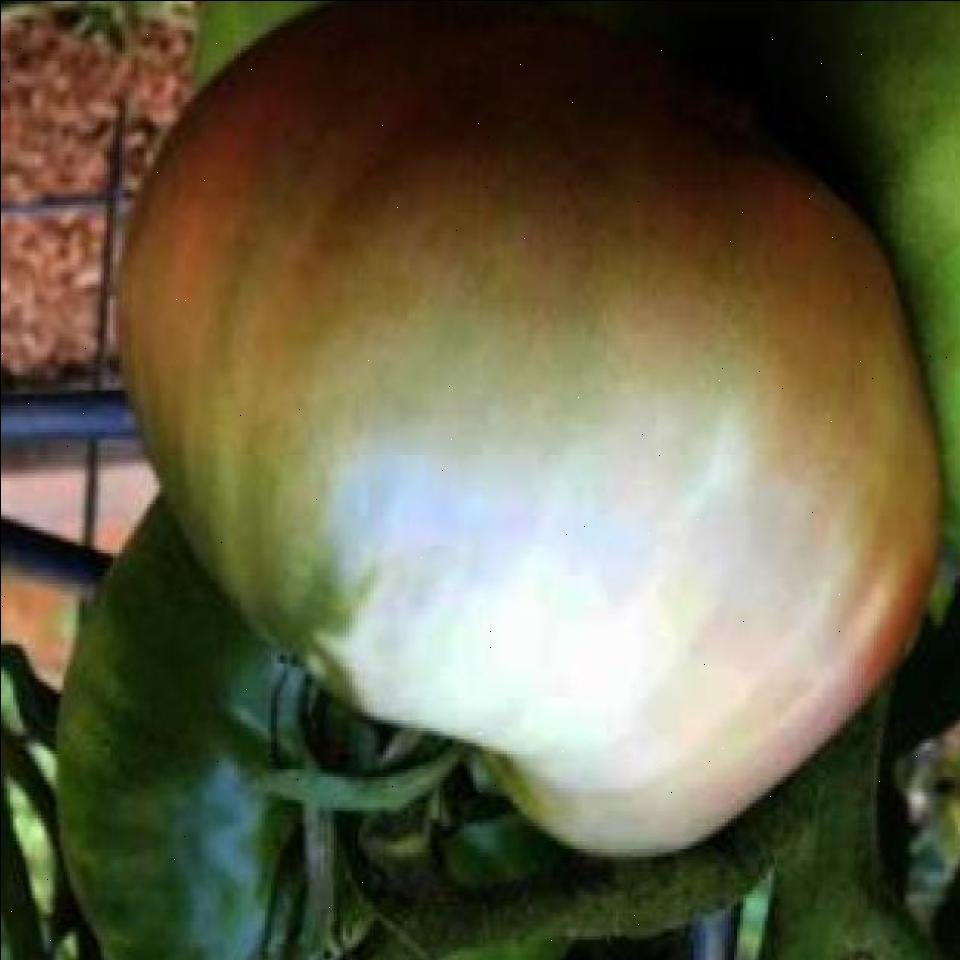Sunscald: (315, 350, 821, 843)
